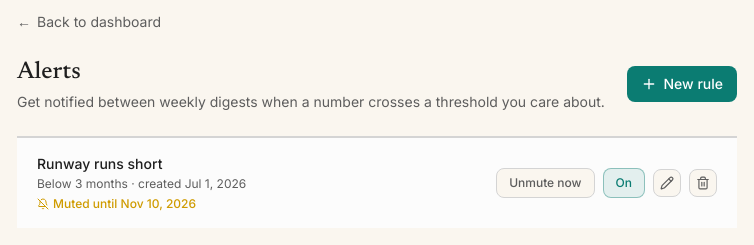
Test case: AlertRules, mute state › clears the mute via a PUT with muteUntil: null
Click the button "Unmute now".
click(545, 183)  # box [496, 168, 595, 198]
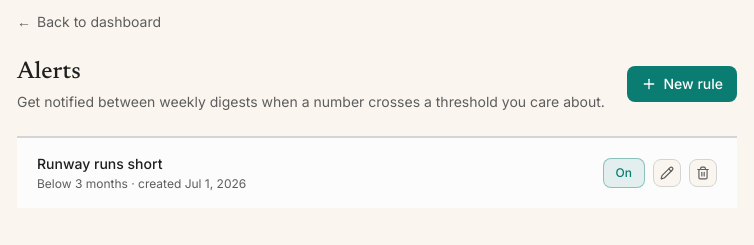
Expected: the text "Muted until" is gone
